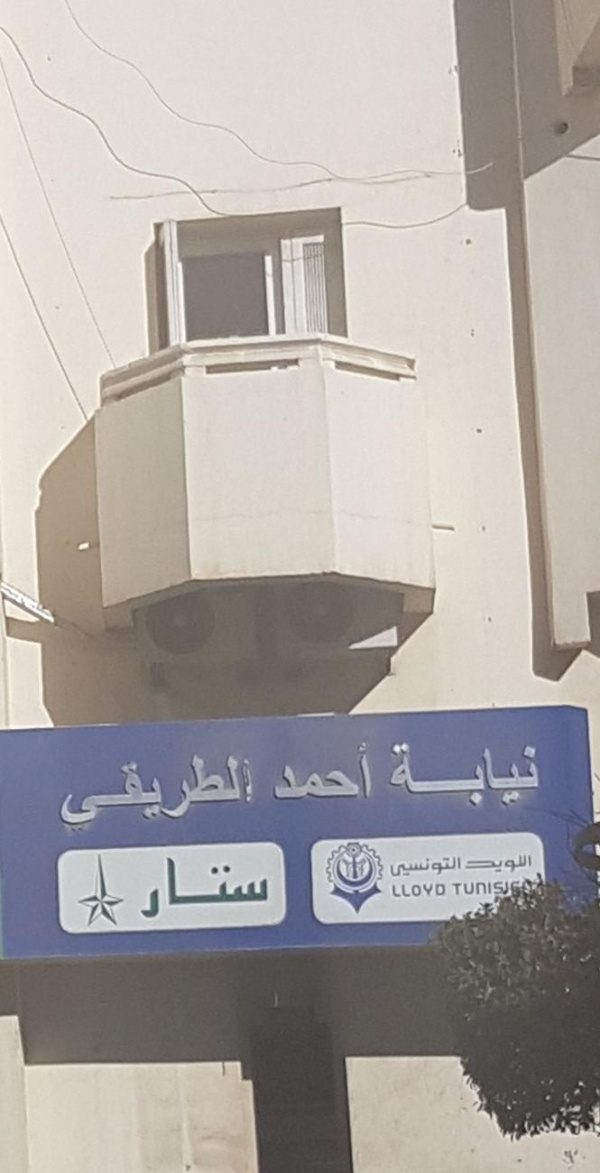text: (65, 752, 80, 836), (81, 752, 96, 836), (97, 752, 112, 836), (113, 752, 128, 836), (129, 752, 144, 836), (145, 752, 160, 836), (161, 752, 176, 836), (177, 752, 192, 836), (193, 752, 208, 836), (209, 752, 224, 836), (225, 752, 240, 836), (241, 752, 256, 836), (401, 741, 416, 810), (417, 741, 432, 810), (433, 741, 448, 810), (449, 741, 464, 810), (465, 741, 480, 810), (481, 741, 496, 810), (497, 741, 512, 810), (513, 741, 528, 810), (145, 855, 160, 922), (161, 855, 176, 922), (177, 855, 192, 922), (193, 855, 208, 922), (209, 855, 224, 922), (225, 855, 240, 922), (241, 855, 256, 922), (257, 855, 272, 922), (273, 737, 288, 802), (289, 737, 304, 802), (305, 737, 320, 802), (321, 737, 336, 802), (337, 737, 352, 802), (353, 737, 368, 802), (529, 741, 543, 810), (389, 741, 400, 810), (369, 737, 377, 802), (138, 855, 144, 922), (401, 855, 416, 878), (417, 855, 432, 878), (433, 855, 448, 878), (60, 752, 64, 836), (465, 854, 480, 875), (481, 854, 496, 875), (497, 854, 512, 875), (513, 854, 528, 875), (387, 855, 400, 878), (449, 855, 462, 878), (401, 882, 416, 899), (417, 882, 432, 899), (465, 881, 480, 896), (481, 881, 496, 896), (433, 882, 446, 899), (451, 881, 464, 896), (390, 882, 400, 899), (497, 881, 506, 896), (529, 854, 534, 875), (257, 752, 258, 836), (463, 854, 464, 875)
